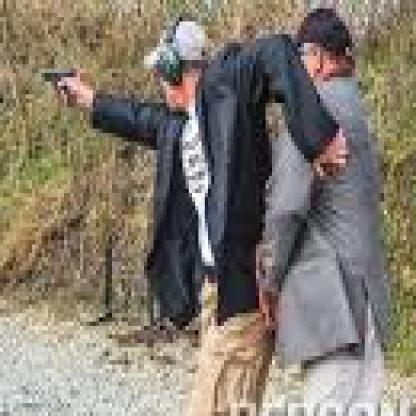gun: (32, 64, 70, 107)
